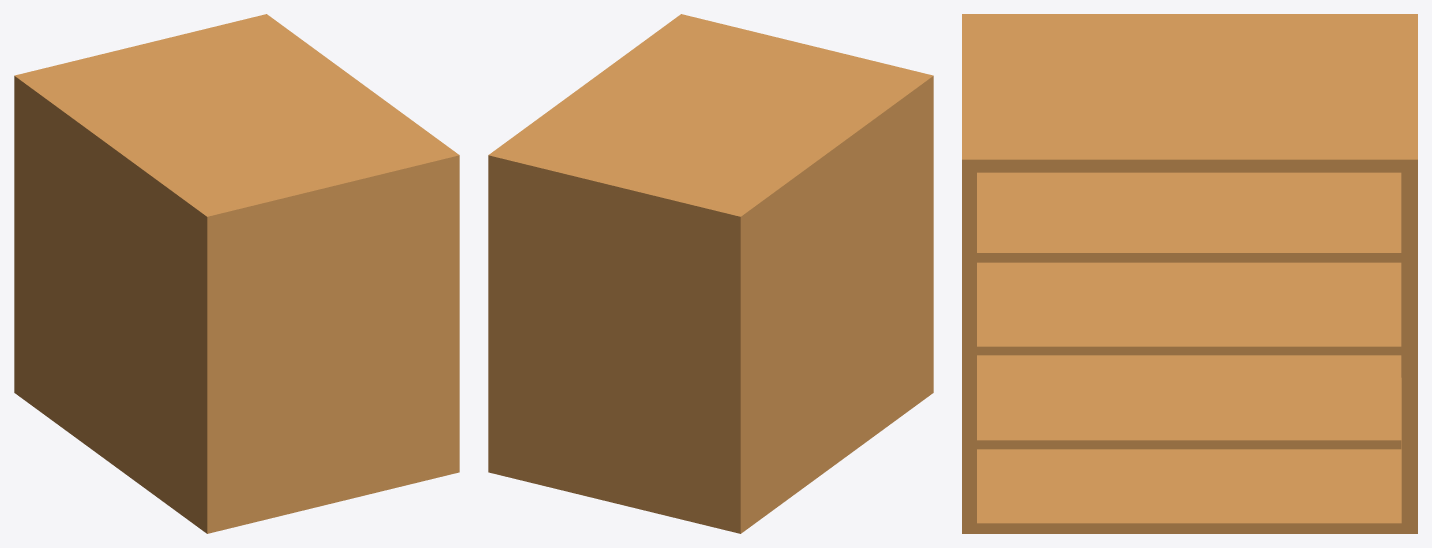
The model's file is OpenShelve.fbx.
3 renders of one model, left to right at view 1: azimuth 30°, elevation 25°; view 2: azimuth 150°, elevation 25°; view 3: azimuth 270°, elevation 25°, orthographic. The views are drawn at different scales.
Visible parts, largest first — view 1: Shelves; view 2: Shelves; view 3: Shelves.
Boxes of the visible parts, box(x1,y1,x2,y2) form: Shelves: box(14, 14, 459, 533); Shelves: box(488, 14, 933, 533); Shelves: box(962, 14, 1417, 533).
Bounding box in the file's own units: 115 × 152 × 138.
